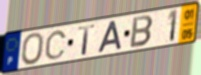1: (167, 8, 178, 45)
A: (97, 19, 123, 55)
B: (129, 14, 155, 49)
C: (44, 30, 68, 61)
O: (20, 31, 46, 66)
T: (77, 23, 97, 57)
